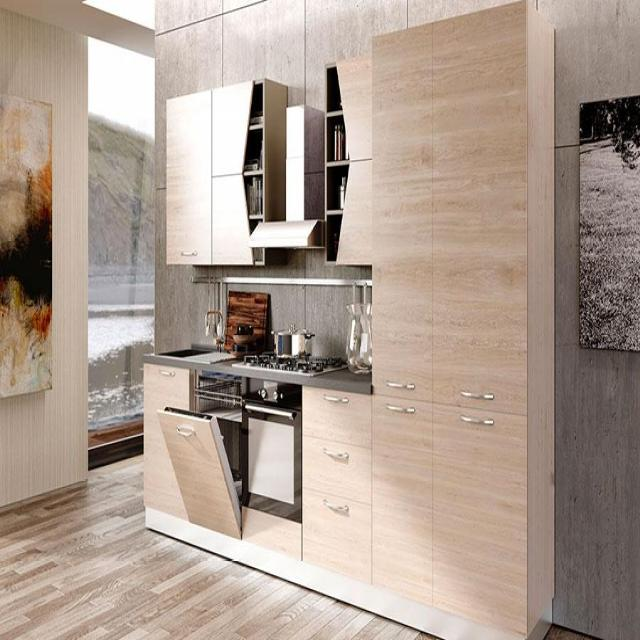dishwasher: (154, 368, 246, 542)
